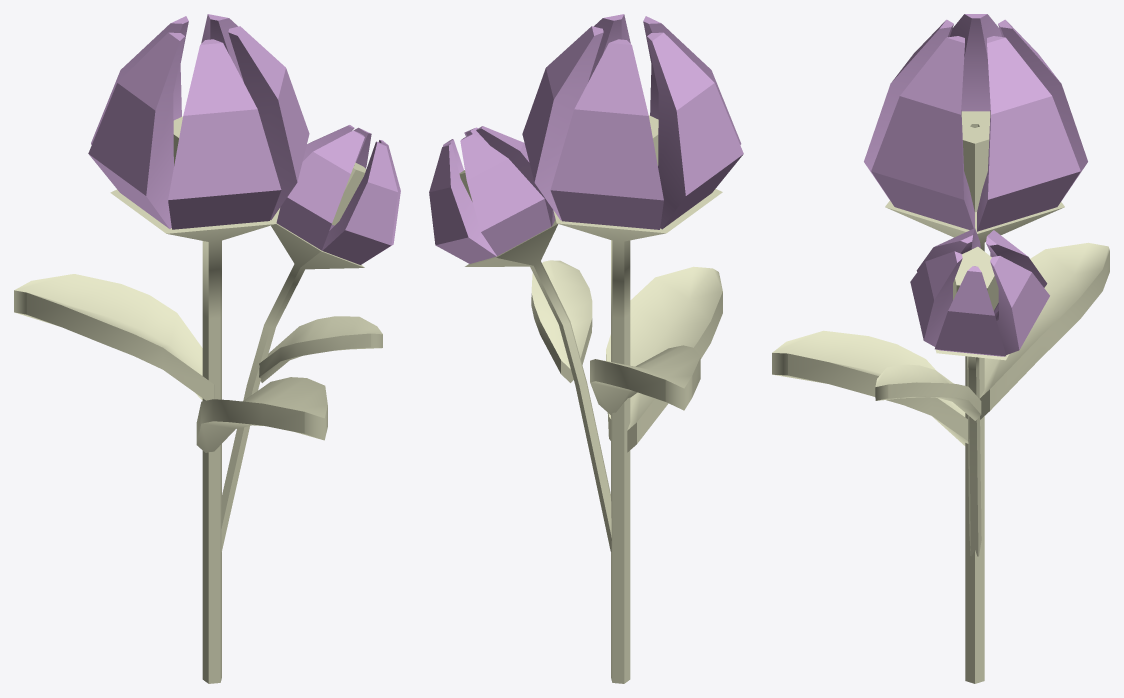
The model's file is flower01.fbx.
3 views of the same model, side by side, from view 1: azimuth 30°, elevation 25°; view 2: azimuth 150°, elevation 25°; view 3: azimuth 270°, elevation 25° (orthographic).
Visible parts, largest first — view 1: pPipe2, pPipe9, pCube2, pPipe3, pCube1, pPipe10, pCube5, pPipe11; view 2: pPipe2, pPipe9, pPipe3, pCube1, pCube2, pPipe10, pCube5; view 3: pPipe2, pPipe9, pCube2, pCube1, pPipe3, pCube5, pPipe10, pPipe4, pPipe11.
Part boxes in pixels (bbox=[...]): pPipe2: bbox=[88, 14, 309, 229]; pPipe9: bbox=[276, 125, 400, 264]; pCube2: bbox=[14, 274, 214, 400]; pPipe3: bbox=[110, 189, 279, 683]; pCube1: bbox=[196, 377, 327, 452]; pPipe10: bbox=[221, 223, 364, 551]; pCube5: bbox=[259, 316, 382, 382]; pPipe11: bbox=[332, 162, 366, 225]; pPipe2: bbox=[522, 14, 743, 229]; pPipe9: bbox=[429, 126, 555, 263]; pPipe3: bbox=[553, 188, 722, 683]; pCube1: bbox=[606, 266, 722, 452]; pCube2: bbox=[590, 345, 700, 415]; pPipe10: bbox=[465, 220, 611, 551]; pCube5: bbox=[531, 260, 592, 382]; pPipe2: bbox=[864, 14, 1087, 231]; pPipe9: bbox=[910, 228, 1049, 356]; pCube2: bbox=[979, 242, 1109, 419]; pCube1: bbox=[772, 330, 968, 445]; pPipe3: bbox=[885, 201, 1064, 683]; pCube5: bbox=[875, 364, 981, 420]; pPipe10: bbox=[935, 349, 1009, 556]; pPipe4: bbox=[961, 111, 990, 212]; pPipe11: bbox=[953, 246, 998, 310].
Size of the model in its own units: 96.04 by 193 by 91.17.
